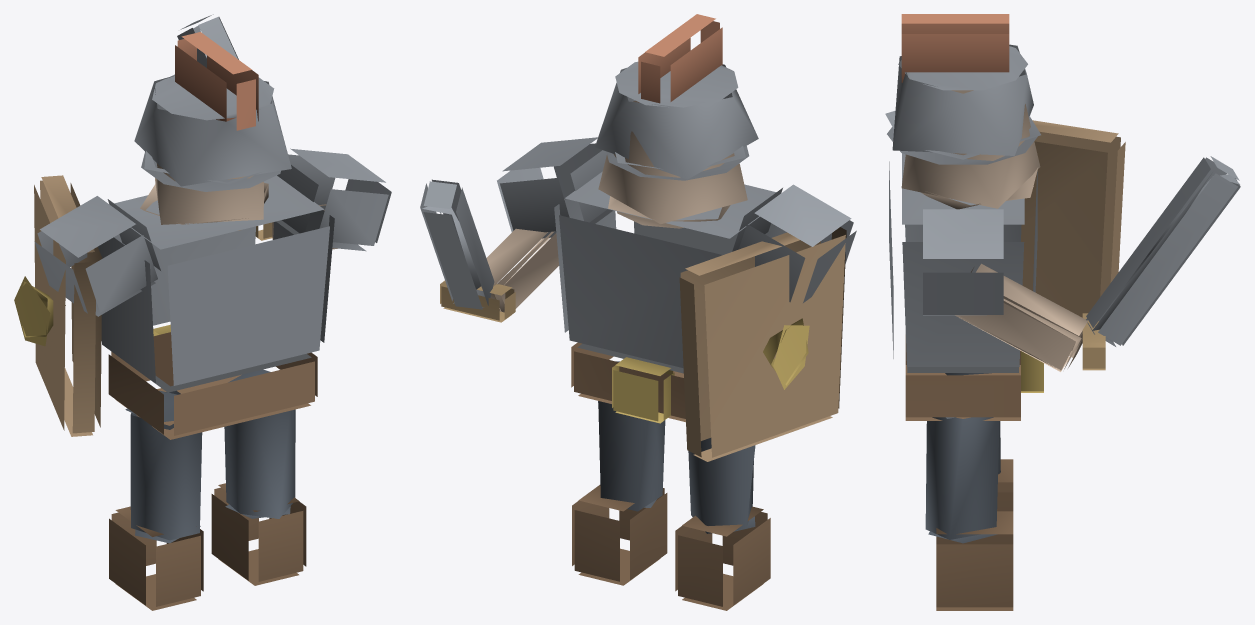
Rendered from squire_footman_lod2.glb.
3 views of the same model, side by side, from view 1: azimuth 30°, elevation 25°; view 2: azimuth 150°, elevation 25°; view 3: azimuth 270°, elevation 25° (orthographic). The views are drawn at different scales.
Parts seen in each view (by area): view 1: squire_footman.001; view 2: squire_footman.001; view 3: squire_footman.001.
Part boxes in pixels (x1,y1,x2,y2): squire_footman.001: [14, 14, 391, 610]; squire_footman.001: [420, 14, 856, 610]; squire_footman.001: [885, 14, 1240, 610].
Size of the model in its own units: 1.02 by 1.59 by 0.9241.
